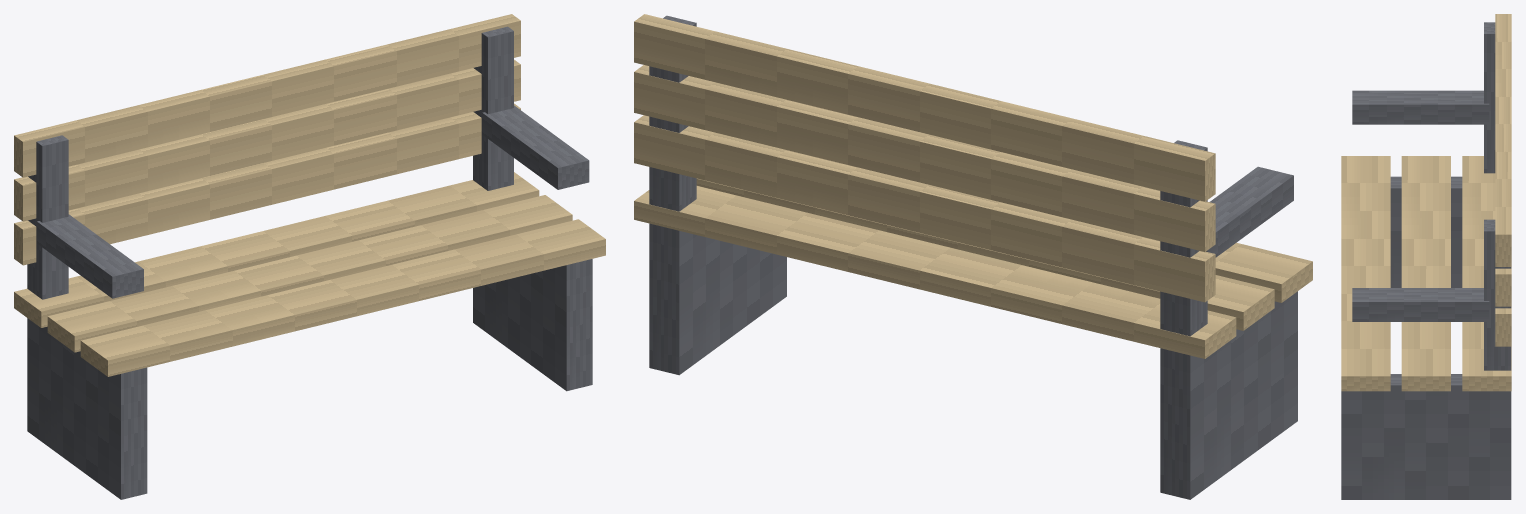
Rendered from pixel-modern-city-street-park-bench-8823409a__29053.glb.
The picture shows the model from 3 angles, left to right: view 1: azimuth 30°, elevation 25°; view 2: azimuth 150°, elevation 25°; view 3: azimuth 270°, elevation 25°; orthographic projection. The views are drawn at different scales.
Visible parts, largest first — view 1: park-bench; view 2: park-bench; view 3: park-bench.
Part boxes in pixels (box(x1,y1,x2,y2)): park-bench: box(14, 14, 605, 499); park-bench: box(634, 14, 1312, 499); park-bench: box(1341, 14, 1511, 499).
Size of the model in its own units: 1.9 by 1.09 by 0.6212.
2 materials, 2 textured.
